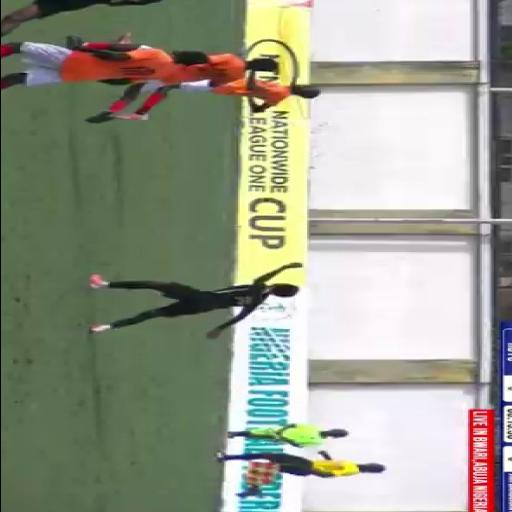distract: (218, 418, 358, 452)
referee: (212, 454, 397, 496)
team1: (0, 42, 204, 90), (147, 52, 277, 84), (182, 75, 322, 99)
team2: (70, 253, 334, 351), (0, 0, 197, 35)
